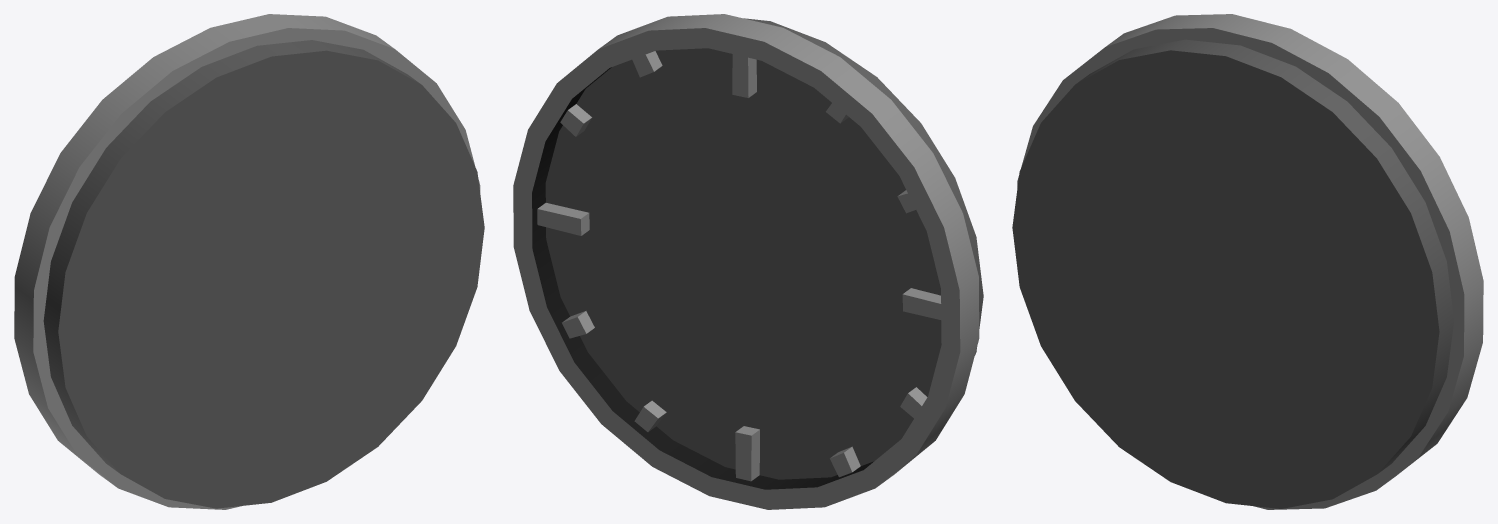
File: time_panel.glb
The picture shows the model from 3 angles, left to right: view 1: azimuth 30°, elevation 25°; view 2: azimuth 150°, elevation 25°; view 3: azimuth 330°, elevation 25°; orthographic projection.
Visible parts, largest first — view 1: clock_panel; view 2: clock_panel; view 3: clock_panel.
Part boxes in pixels (box(x1,y1,x2,y2)): clock_panel: box(14, 14, 484, 509); clock_panel: box(513, 14, 983, 509); clock_panel: box(1012, 14, 1483, 509).
Size of the model in its own units: 0.5692 by 0.5692 by 0.0744.
1 material, 1 textured.
